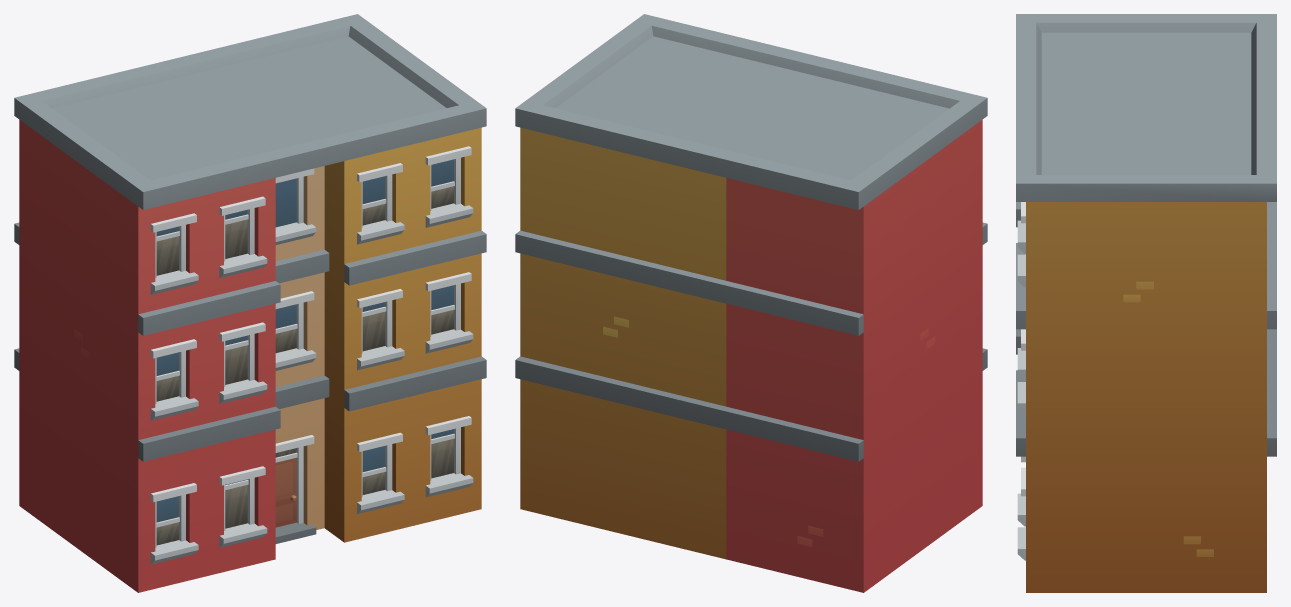
Rendered from building_F_withoutBase.obj.
The picture shows the model from 3 angles, left to right: view 1: azimuth 30°, elevation 25°; view 2: azimuth 150°, elevation 25°; view 3: azimuth 270°, elevation 25°; orthographic projection.
Bounding box in the file's own units: 2.01 × 2.25 × 1.3.
Materials: 1 (1 with a texture image).
